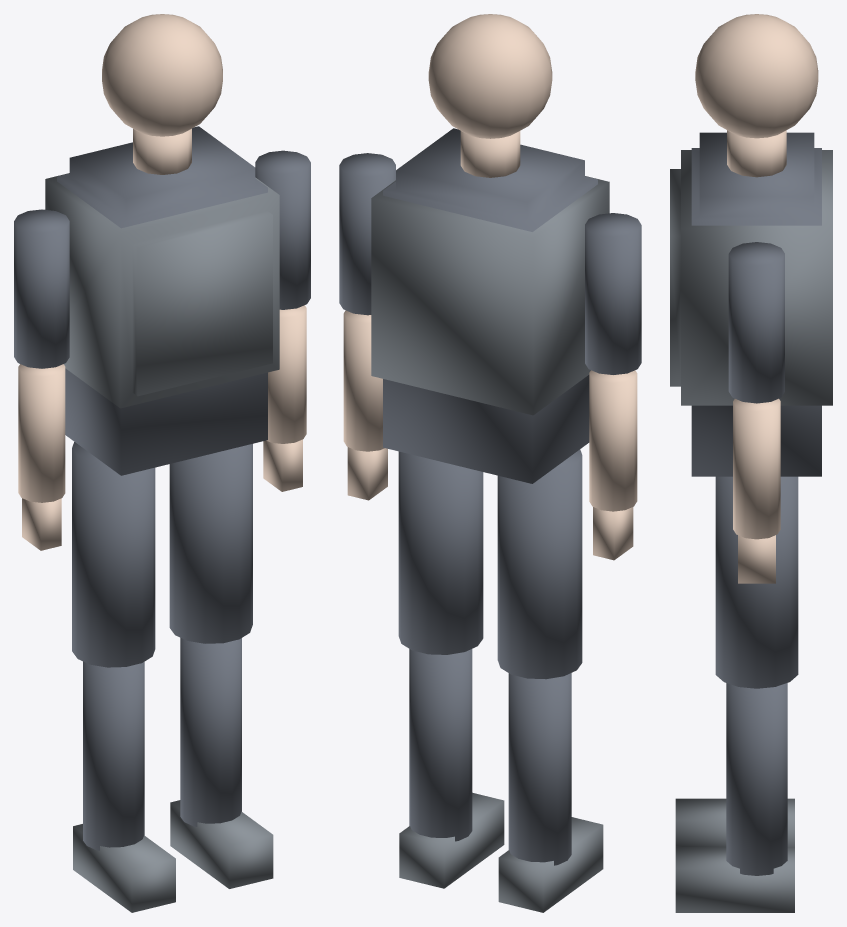
File: humanoid_character.glb
The picture shows the model from 3 angles, left to right: view 1: azimuth 30°, elevation 25°; view 2: azimuth 150°, elevation 25°; view 3: azimuth 270°, elevation 25°; orthographic projection.
Visible parts, largest first — view 1: HumanoidCharacter; view 2: HumanoidCharacter; view 3: HumanoidCharacter.
Part boxes in pixels (x1=…): HumanoidCharacter: x1=14, y1=14, x2=310, y2=912; HumanoidCharacter: x1=339, y1=14, x2=641, y2=912; HumanoidCharacter: x1=670, y1=14, x2=832, y2=912.
Size of the model in its own units: 0.624 by 1.75 by 0.3.
